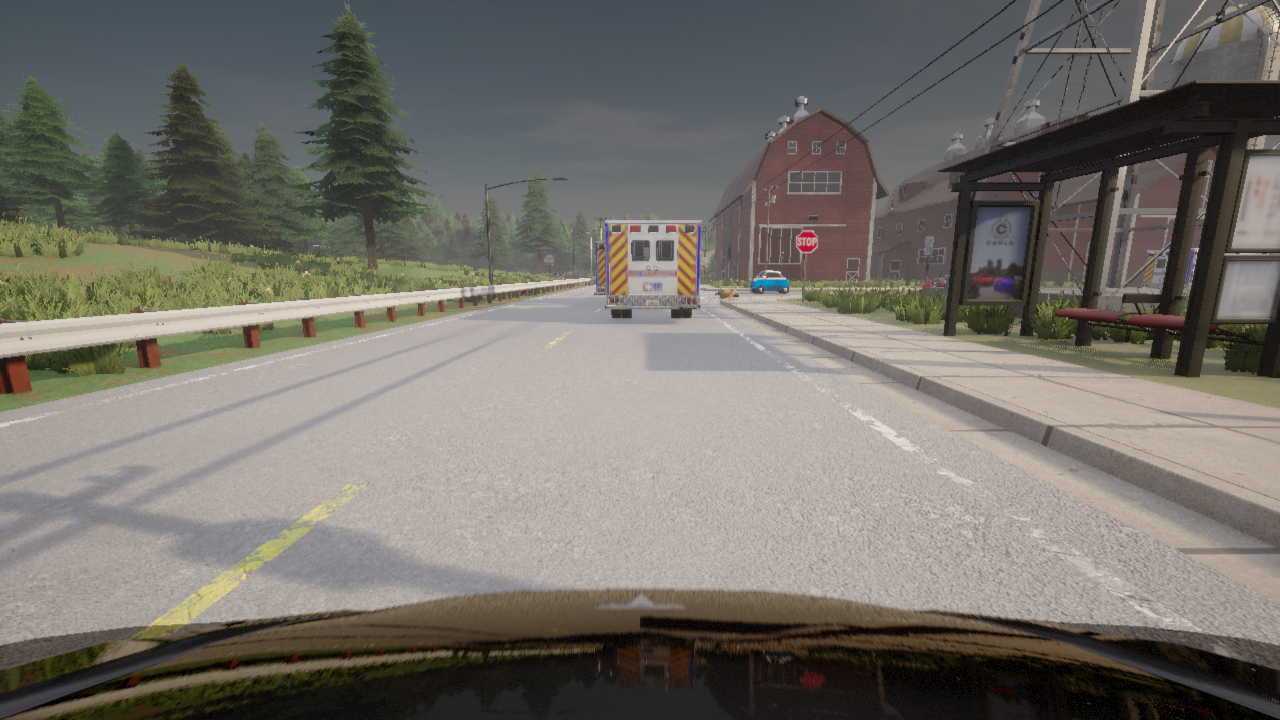cyclist: (0, 588, 1279, 719), (605, 220, 700, 317), (749, 271, 788, 293), (593, 241, 605, 294), (931, 275, 947, 286)
pedestrian: (715, 281, 738, 298), (940, 272, 942, 275)
